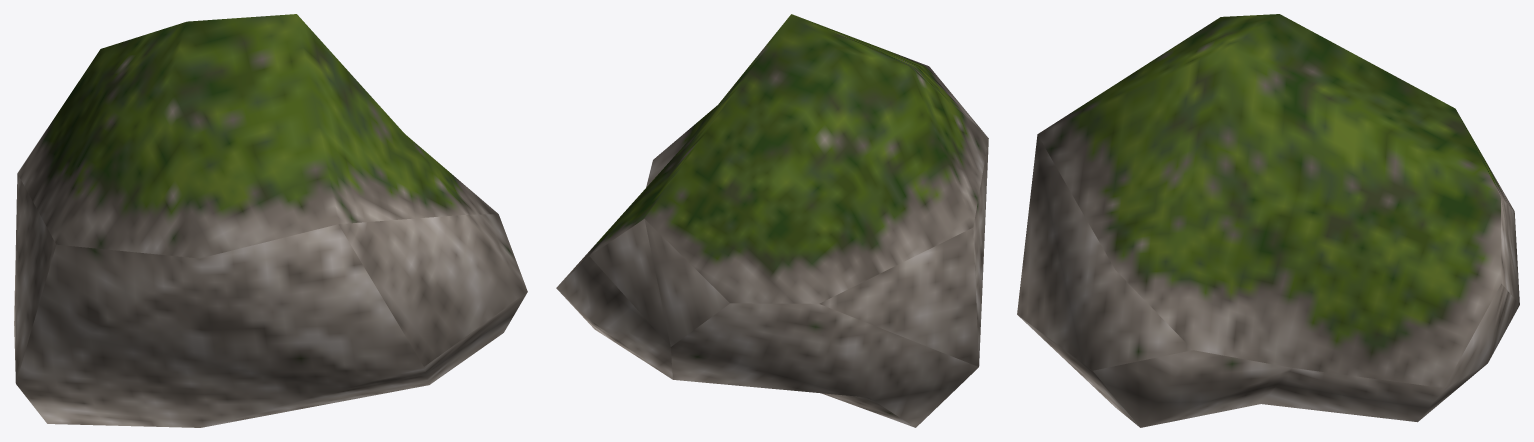
Rendered from mboulderswa_0.obj.
The picture shows the model from 3 angles, left to right: view 1: azimuth 30°, elevation 25°; view 2: azimuth 150°, elevation 25°; view 3: azimuth 270°, elevation 25°; orthographic projection. The views are drawn at different scales.
Visible parts, largest first — view 1: mboulderswa_0; view 2: mboulderswa_0; view 3: mboulderswa_0.
Part boxes in pixels (box(x1,y1,x2,y2)): mboulderswa_0: box(14, 14, 527, 427); mboulderswa_0: box(556, 14, 988, 427); mboulderswa_0: box(1017, 14, 1519, 427).
Bounding box in the file's own units: 1.68 × 1.48 × 1.78.
